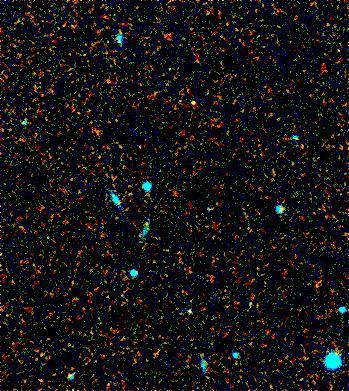star: (180, 88, 210, 118)
